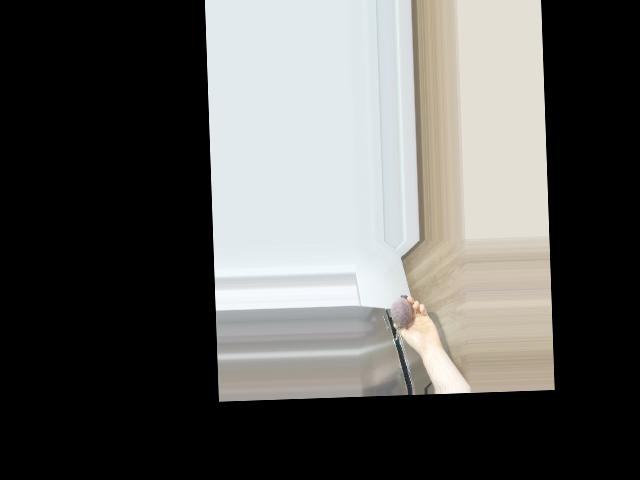beet: (390, 294, 413, 339)
